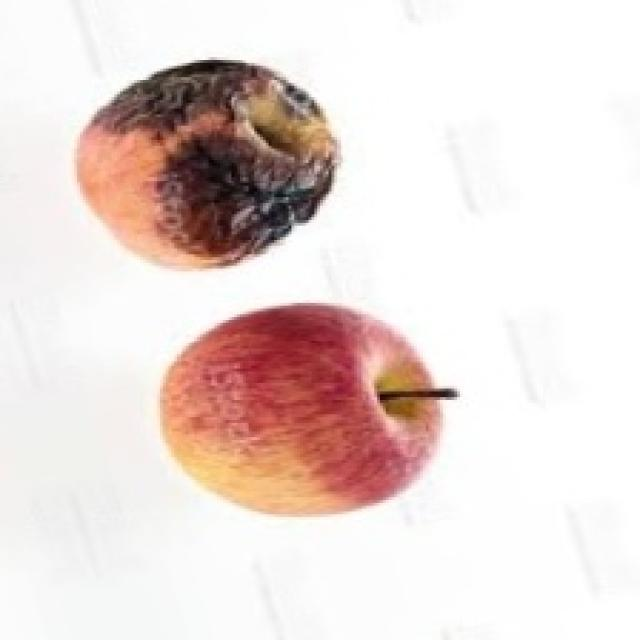rotten_apple: (78, 62, 336, 262)
